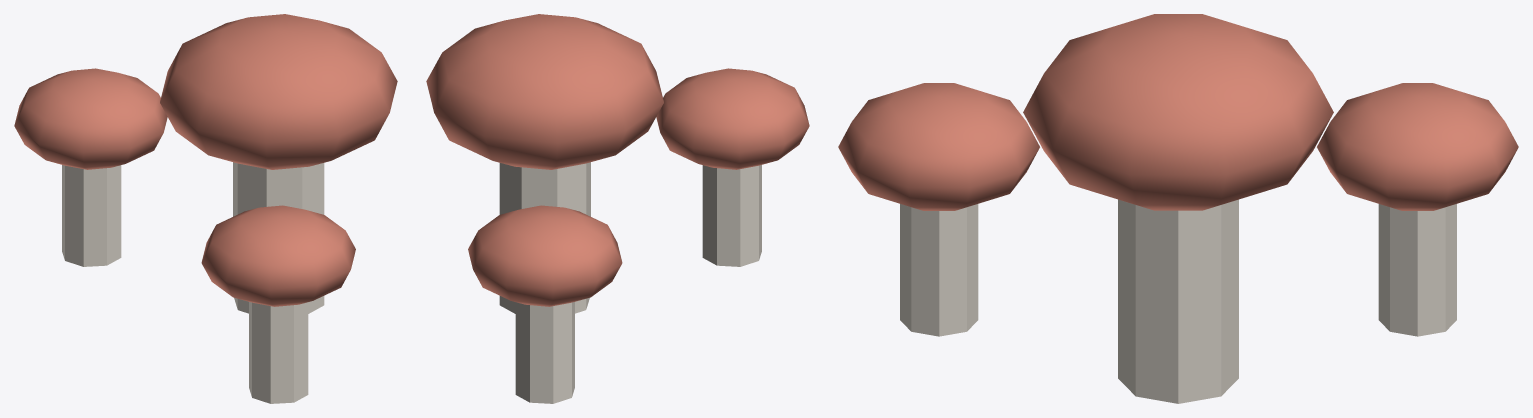
The model's file is mushroom.glb.
3 renders of one model, left to right at view 1: azimuth 30°, elevation 25°; view 2: azimuth 150°, elevation 25°; view 3: azimuth 270°, elevation 25°, orthographic. The views are drawn at different scales.
Visible parts, largest first — view 1: Sphere, Sphere.002, Sphere.001, Cylinder.001, Cylinder.002, Cylinder; view 2: Sphere, Sphere.001, Sphere.002, Cylinder.001, Cylinder.002, Cylinder; view 3: Sphere, Cylinder, Sphere.001, Sphere.002, Cylinder.001, Cylinder.002.
Part boxes in pixels (x1=…): Sphere: x1=160, y1=14, x2=397, y2=169; Sphere.002: x1=201, y1=205, x2=355, y2=306; Sphere.001: x1=14, y1=68, x2=167, y2=169; Cylinder.001: x1=62, y1=165, x2=121, y2=266; Cylinder.002: x1=249, y1=302, x2=308, y2=403; Cylinder: x1=233, y1=162, x2=324, y2=313; Sphere: x1=426, y1=14, x2=663, y2=169; Sphere.001: x1=468, y1=205, x2=622, y2=306; Sphere.002: x1=656, y1=68, x2=809, y2=169; Cylinder.001: x1=515, y1=302, x2=574, y2=403; Cylinder.002: x1=702, y1=165, x2=761, y2=266; Cylinder: x1=499, y1=162, x2=590, y2=313; Sphere: x1=1023, y1=14, x2=1333, y2=210; Cylinder: x1=1118, y1=199, x2=1238, y2=403; Sphere.001: x1=1317, y1=83, x2=1518, y2=210; Sphere.002: x1=838, y1=83, x2=1039, y2=210; Cylinder.001: x1=1378, y1=204, x2=1456, y2=336; Cylinder.002: x1=900, y1=204, x2=978, y2=336.
Bounding box in the file's own units: 0.2212 × 0.2195 × 0.3941.
